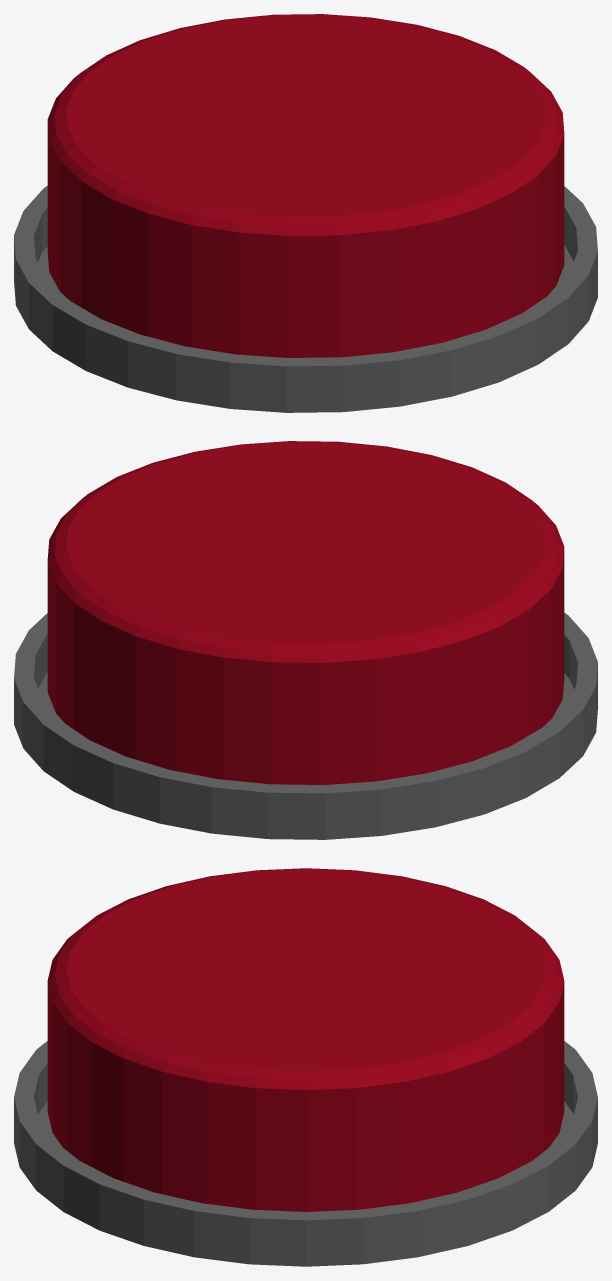
Rendered from Button.fbx.
The picture shows the model from 3 angles, top to bottom: view 1: azimuth 30°, elevation 25°; view 2: azimuth 150°, elevation 25°; view 3: azimuth 270°, elevation 25°; orthographic projection.
Visible parts, largest first — view 1: Button, Button Base; view 2: Button, Button Base; view 3: Button, Button Base.
Part boxes in pixels (<box>): Button: <box>47,14,564,357</box>; Button Base: <box>14,186,597,412</box>; Button: <box>47,441,564,784</box>; Button Base: <box>14,613,597,839</box>; Button: <box>47,868,564,1211</box>; Button Base: <box>14,1041,597,1266</box>.
Bounding box in the file's own units: 200 × 65.54 × 200.
